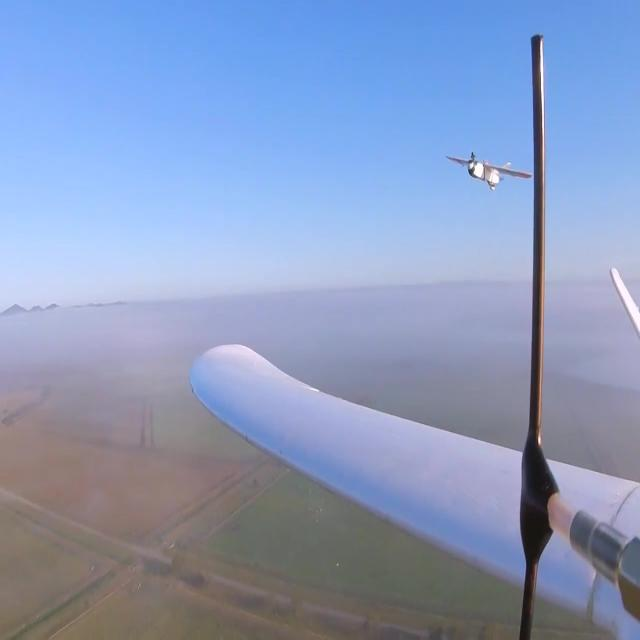iha: (476, 149, 501, 194)
